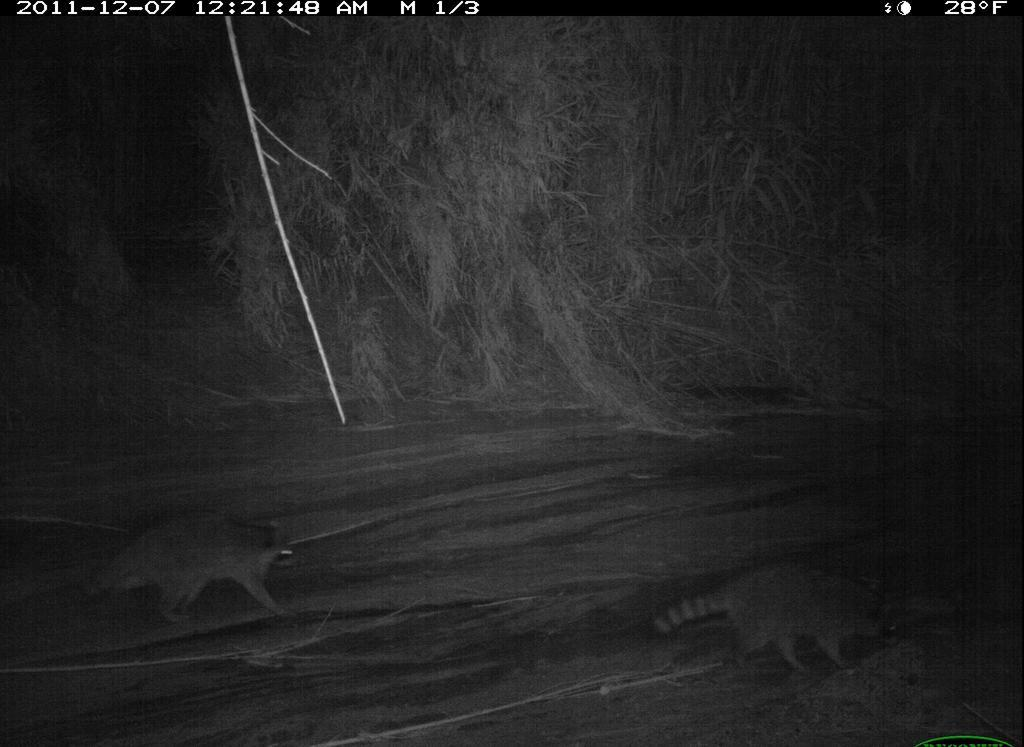raccoon: (621, 556, 907, 689), (75, 509, 312, 625)
